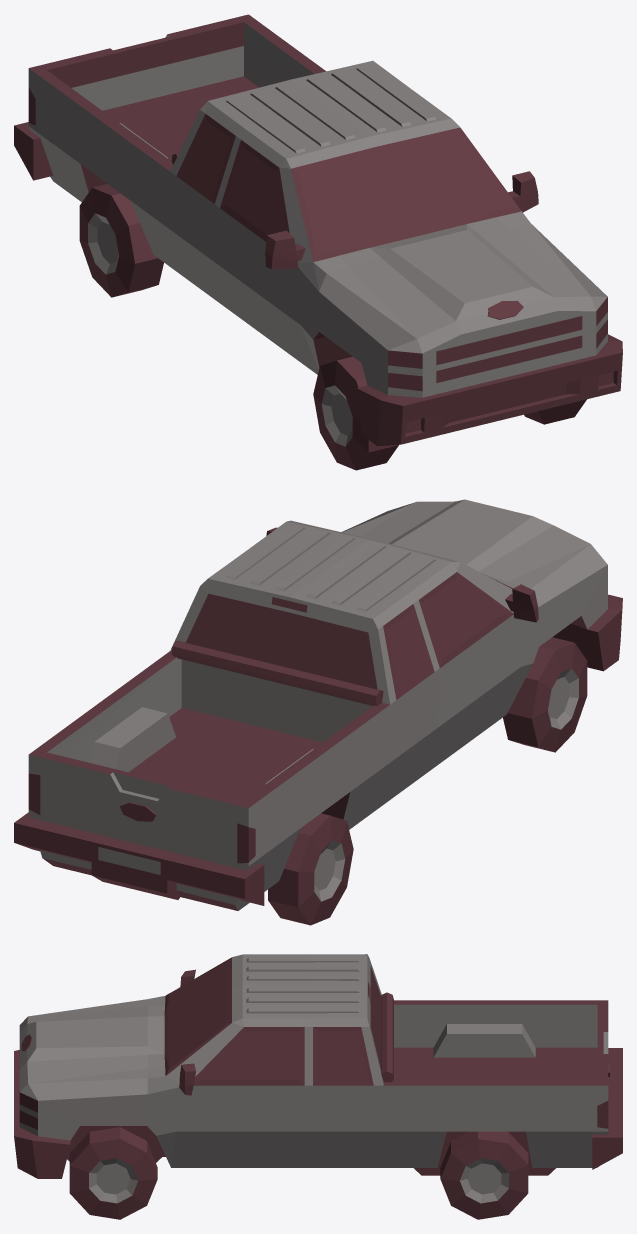
File: car-pickup-modern.fbx
3 renders of one model, top to bottom at view 1: azimuth 30°, elevation 25°; view 2: azimuth 150°, elevation 25°; view 3: azimuth 270°, elevation 25°, orthographic. The views are drawn at different scales.
Parts seen in each view (by area): view 1: car-pickup-modern-base, car-pickup-modern-rear, car-pickup-modern-wheel_BR, car-pickup-modern-wheel_FR, car-pickup-modern-wheel_FL; view 2: car-pickup-modern-base, car-pickup-modern-rear, car-pickup-modern-wheel_FR, car-pickup-modern-wheel_BR; view 3: car-pickup-modern-base, car-pickup-modern-wheel_FL, car-pickup-modern-wheel_BL, car-pickup-modern-rear.
Boxes of the visible parts, x1,y1,x2,y2 form: car-pickup-modern-base: (14,14,622,446); car-pickup-modern-rear: (40,17,243,110); car-pickup-modern-wheel_BR: (79,184,163,297); car-pickup-modern-wheel_FR: (313,356,398,470); car-pickup-modern-wheel_FL: (524,399,586,424); car-pickup-modern-base: (14,499,622,910); car-pickup-modern-rear: (40,752,243,863); car-pickup-modern-wheel_FR: (503,637,587,752); car-pickup-modern-wheel_BR: (268,813,353,925); car-pickup-modern-base: (14,954,622,1178); car-pickup-modern-wheel_FL: (69,1127,157,1219); car-pickup-modern-wheel_BL: (440,1131,528,1219); car-pickup-modern-rear: (597,1004,609,1080).
Size of the model in its own units: 2.32 by 2 by 5.7.
